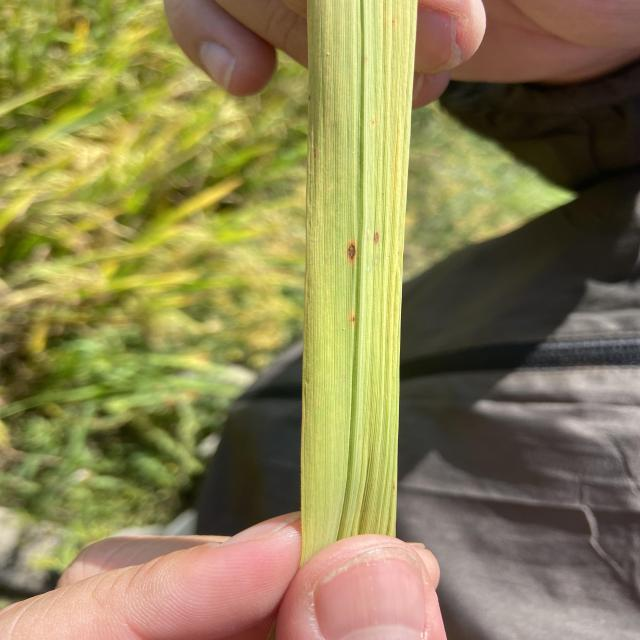Dom nau: (346, 244, 356, 259), (373, 233, 379, 243), (352, 318, 355, 321)
